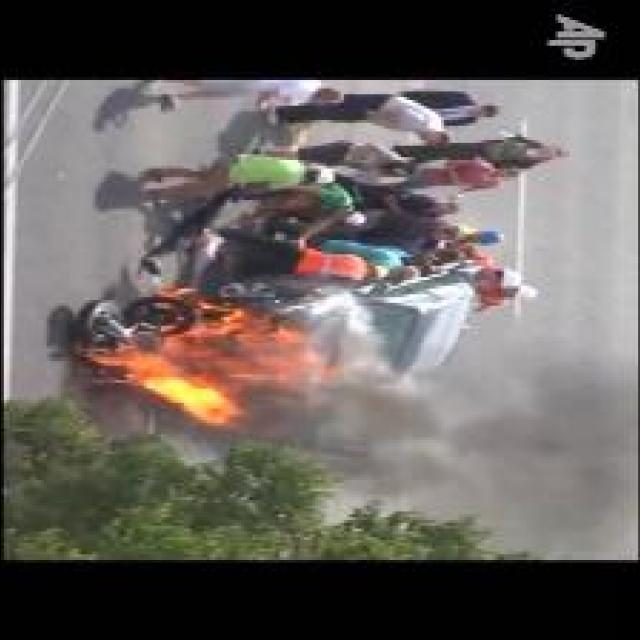Fire: (82, 286, 356, 428)
